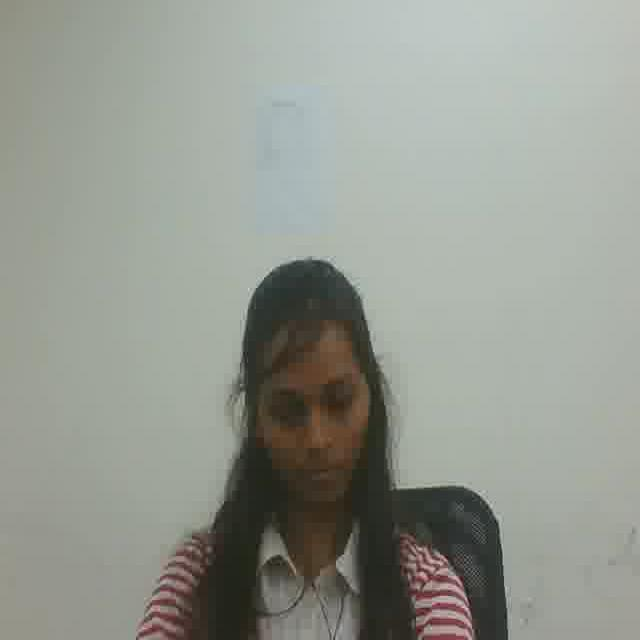Frustration: (257, 339, 362, 512)
